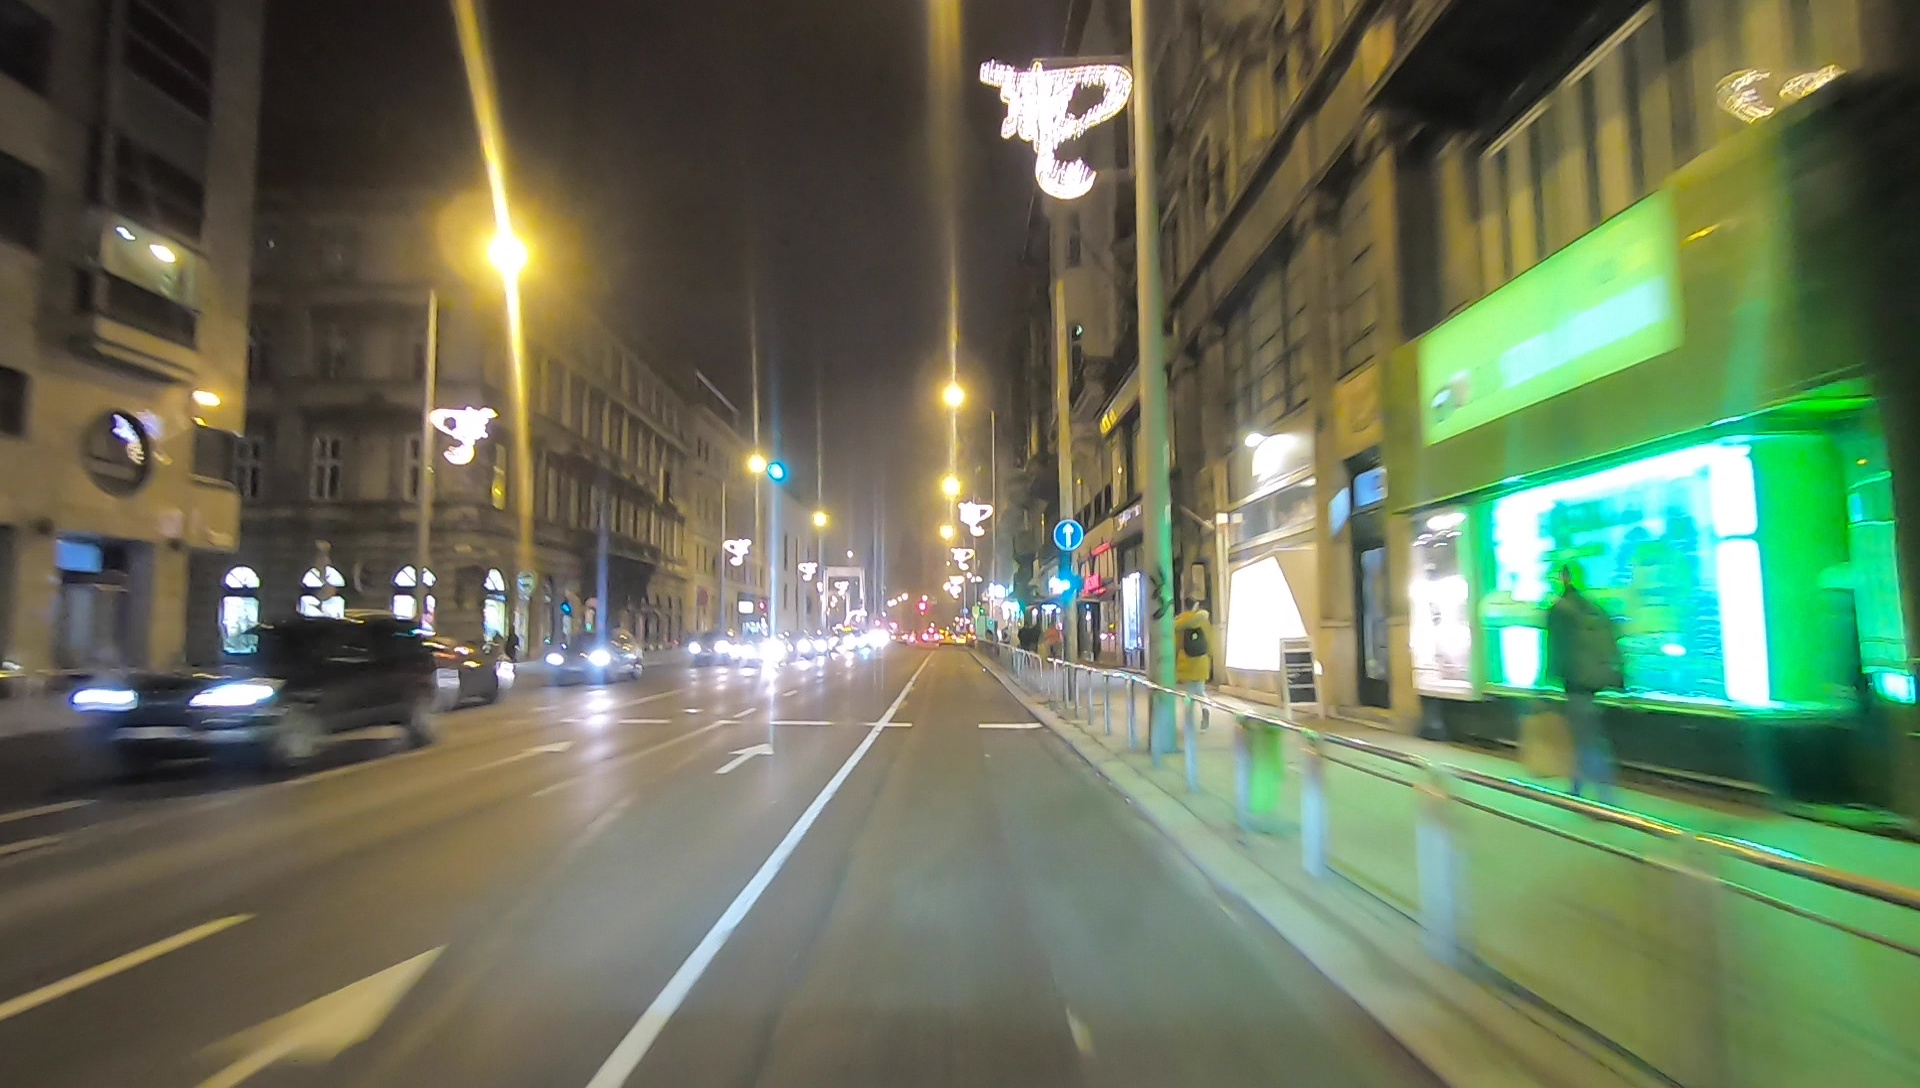person: (1539, 561, 1632, 817), (1173, 599, 1214, 724)
